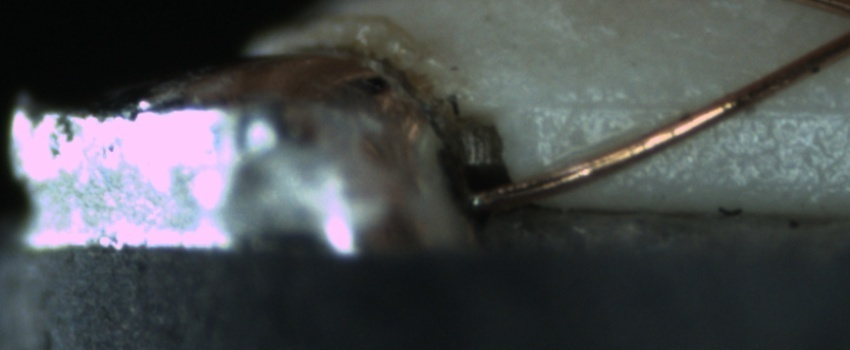DL: (538, 79, 850, 139)
